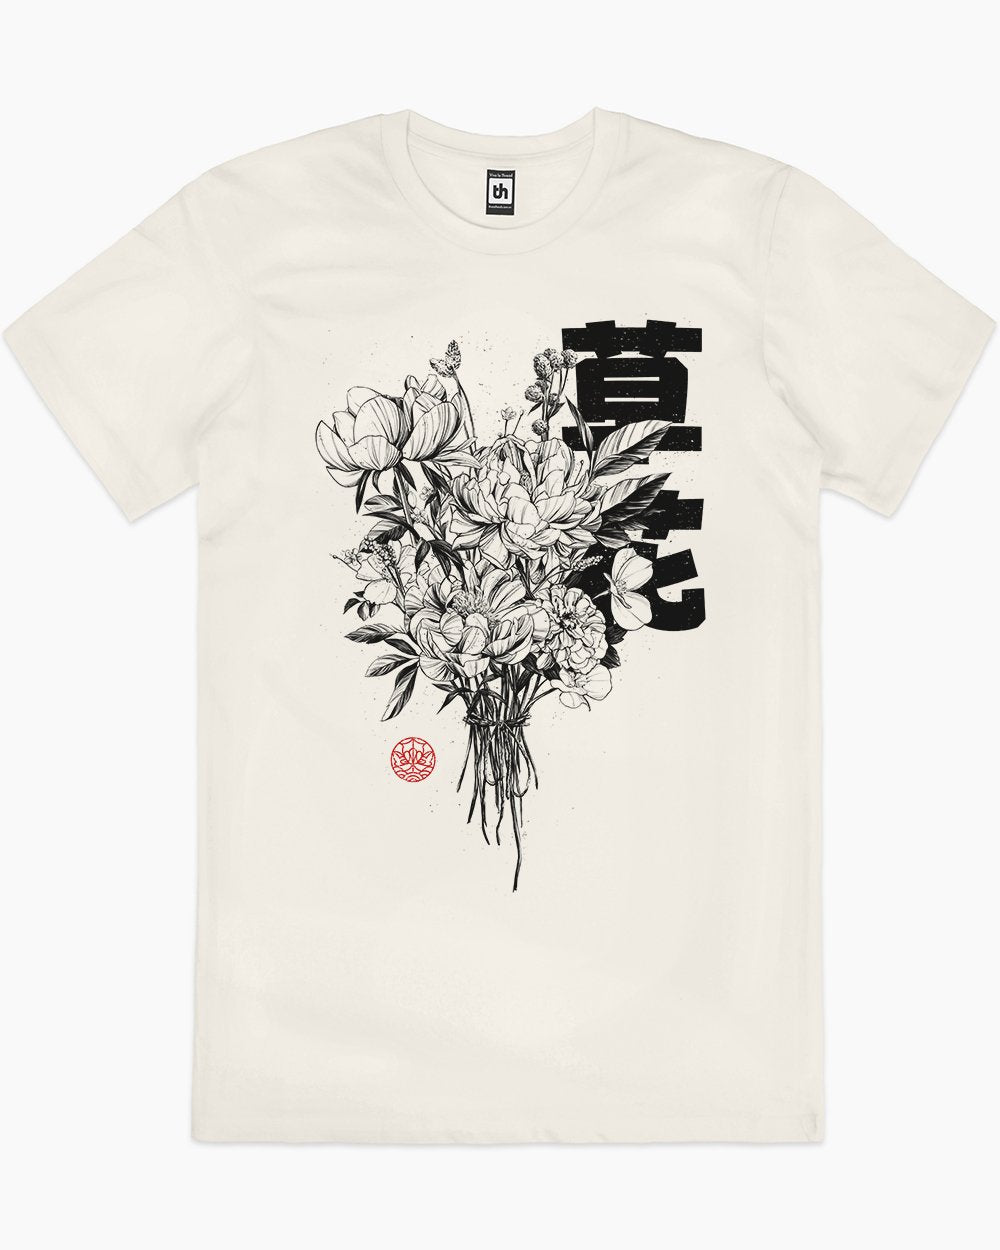design: (308, 315, 712, 898)
